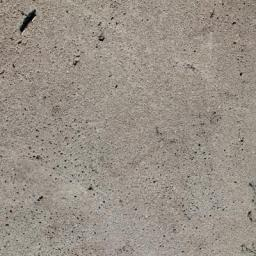FOD: (17, 9, 40, 37)
